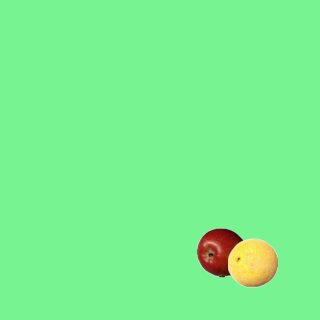Apple Braeburn: (196, 227, 246, 277)
Cantaloupe 1: (227, 237, 277, 287)
